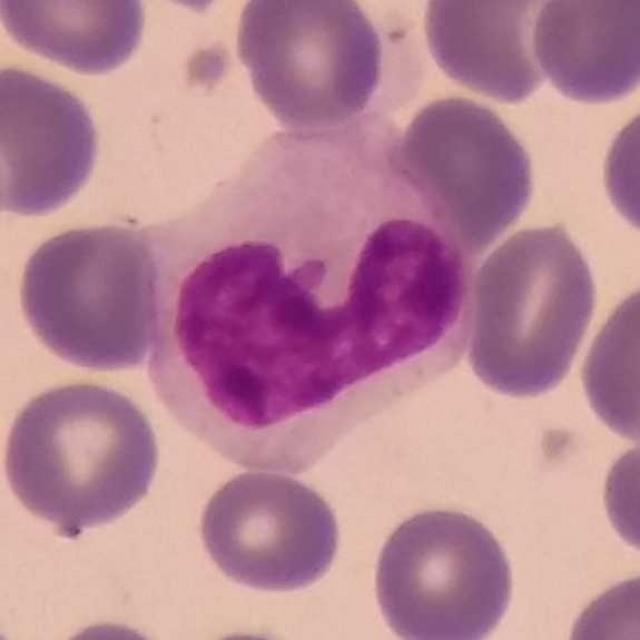Lymphocyte: (144, 116, 470, 480)
RBC: (1, 374, 165, 539), (460, 217, 602, 403), (12, 216, 169, 375), (391, 90, 541, 242), (230, 0, 391, 134), (368, 500, 520, 640), (193, 465, 346, 598), (415, 0, 582, 106), (0, 60, 106, 222), (526, 0, 640, 107), (0, 0, 151, 77), (574, 272, 640, 448), (595, 89, 640, 244), (595, 423, 640, 569), (557, 565, 640, 639), (40, 614, 184, 640)
